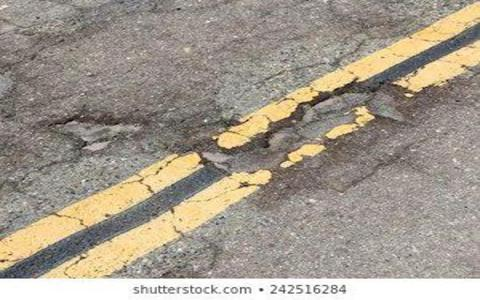patchy roads: (19, 44, 396, 222)
